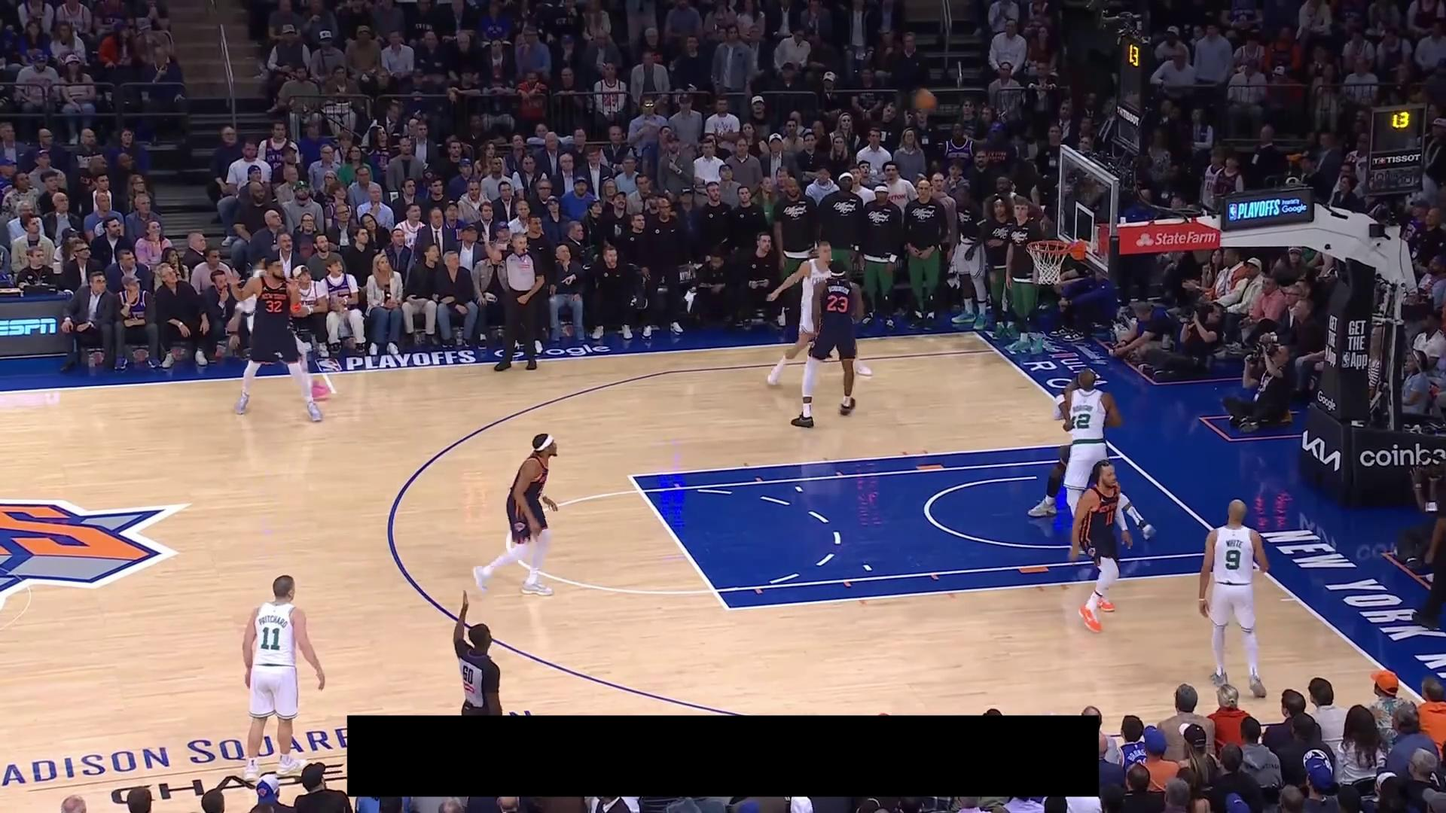ball: (914, 88, 937, 110)
number: (260, 626, 282, 651), (826, 294, 848, 312), (1225, 549, 1241, 571), (1072, 413, 1091, 430), (265, 299, 283, 313), (1105, 510, 1115, 525)
player: (1051, 367, 1157, 540), (240, 574, 326, 785), (765, 240, 873, 387), (228, 258, 324, 422), (1197, 497, 1271, 699), (471, 431, 560, 597), (228, 258, 332, 400), (789, 258, 863, 430), (1069, 458, 1136, 634), (1027, 366, 1079, 520)
referee: (482, 222, 546, 372), (453, 588, 505, 715), (1411, 496, 1446, 631)
rim: (1026, 239, 1072, 254)
